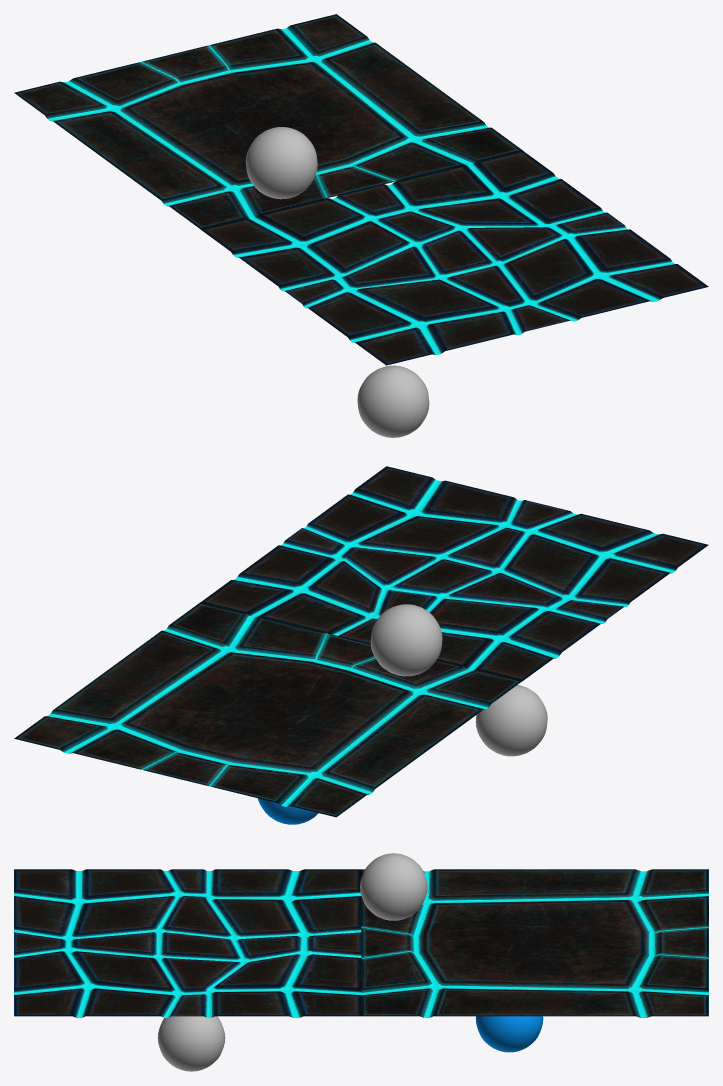
The model's file is mayaToUnity.fbx.
3 views of the same model, one above another, from view 1: azimuth 30°, elevation 25°; view 2: azimuth 150°, elevation 25°; view 3: azimuth 270°, elevation 25° (orthographic). The views are drawn at different scales.
Visible parts, largest first — view 1: modularFloor, modularFloor_02, pSphere3, pSphere1; view 2: modularFloor_02, modularFloor, pSphere1, pSphere3, pSphere2; view 3: modularFloor, modularFloor_02, pSphere1, pSphere3, pSphere2.
Boxes of the visible parts, x1,y1,x2,y2 form: modularFloor: (200,150,708,365); modularFloor_02: (14,14,522,228); pSphere3: (357,365,429,437); pSphere1: (245,127,317,199); modularFloor_02: (14,602,522,817); modularFloor: (200,466,708,680); pSphere1: (370,604,442,676); pSphere3: (475,685,547,756); pSphere2: (257,798,318,824); modularFloor: (14,869,361,1017); modularFloor_02: (361,869,708,1017); pSphere1: (360,853,427,920); pSphere3: (157,1016,225,1071); pSphere2: (475,1016,543,1052).
Bounding box in the file's own units: 366 × 245 × 732.
Materials: 4 (2 with a texture image).
